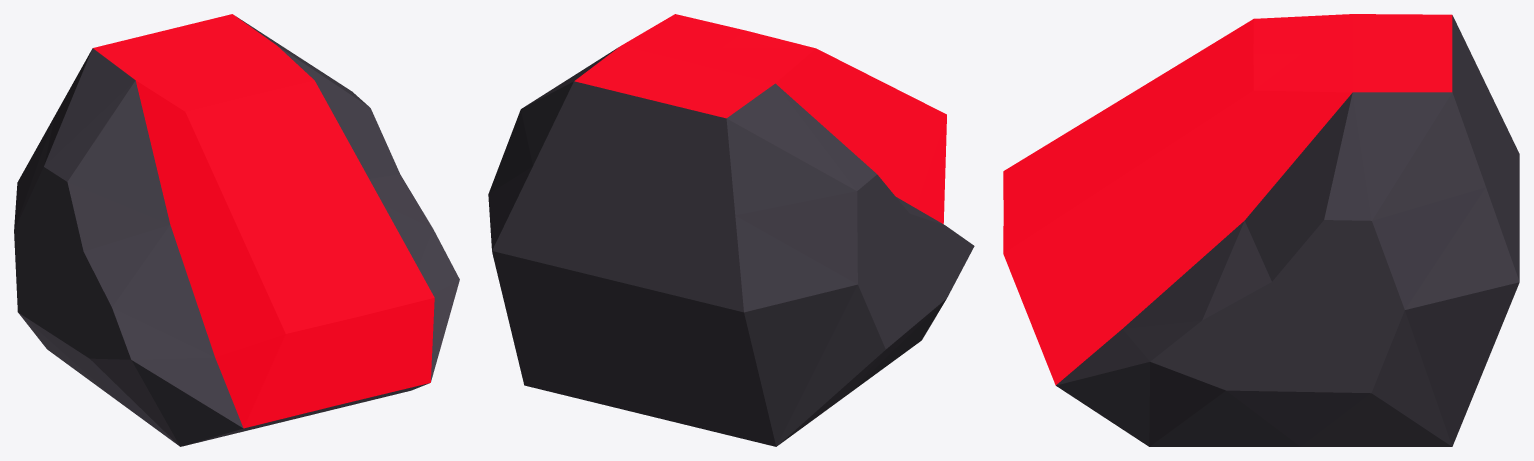
File: character_head.glb
3 renders of one model, left to right at view 1: azimuth 30°, elevation 25°; view 2: azimuth 150°, elevation 25°; view 3: azimuth 270°, elevation 25°, orthographic. The views are drawn at different scales.
Parts seen in each view (by area): view 1: Cube.001; view 2: Cube.001; view 3: Cube.001.
Part boxes in pixels (box(x1,y1,x2,y2)): Cube.001: box(14, 14, 459, 446); Cube.001: box(488, 14, 974, 446); Cube.001: box(1003, 14, 1519, 446).
Bounding box in the file's own units: 1.59 × 1.22 × 1.73.
